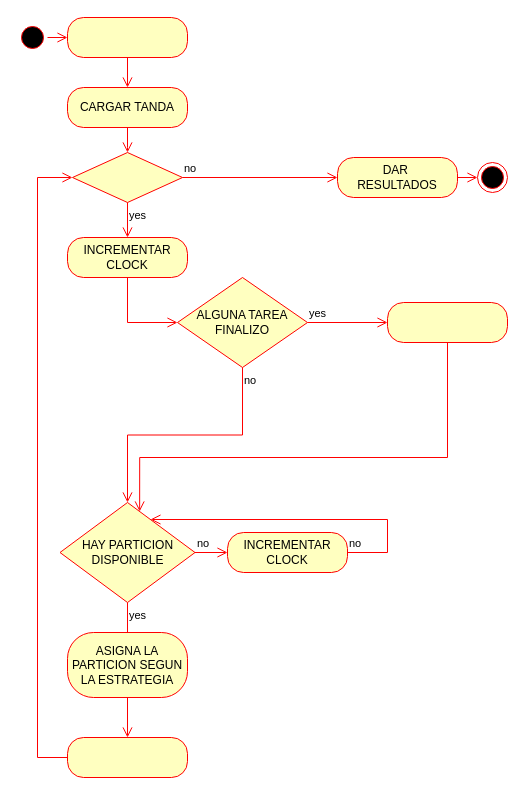
Image size: 525x795. Some labels were removed from this diagram. Each missing label, with the box of its shape:
ASIGNAR TAREA: (66, 736, 188, 778)
HAY TAREAS: (72, 152, 182, 202)
QUITAR TAREA DE LA MEMORIA: (386, 302, 508, 342)
SELECCION ESTRATEGIA: (66, 16, 188, 58)
